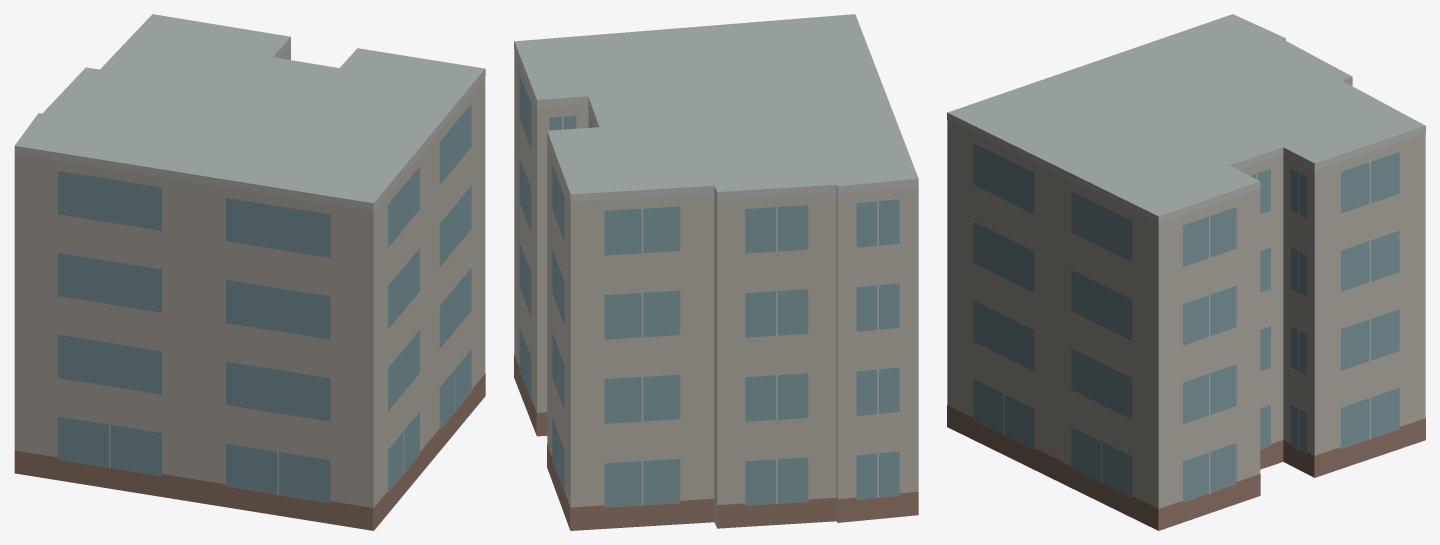
File: survey-upis-32695817.glb
3 views of the same model, side by side, from view 1: azimuth 30°, elevation 25°; view 2: azimuth 150°, elevation 25°; view 3: azimuth 270°, elevation 25° (orthographic). The views are drawn at different scales.
Visible parts, largest first — view 1: survey-upis-32695817.tmp; view 2: survey-upis-32695817.tmp; view 3: survey-upis-32695817.tmp.
Part boxes in pixels (x1,y1,x2,y2): survey-upis-32695817.tmp: [14, 14, 485, 530]; survey-upis-32695817.tmp: [514, 14, 918, 530]; survey-upis-32695817.tmp: [947, 14, 1425, 530].
Size of the model in its own units: 14.44 by 10.45 by 14.42.
